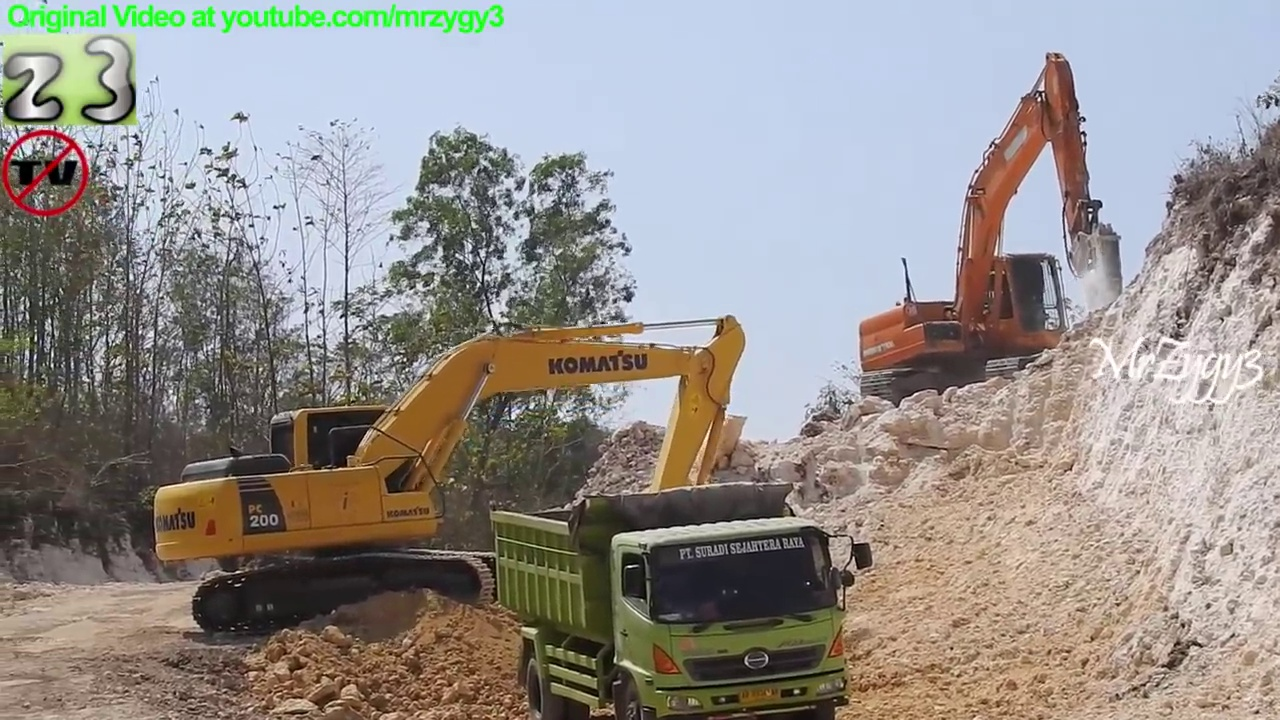excavator: (151, 312, 750, 651), (857, 47, 1130, 409)
truck: (484, 474, 878, 720)
